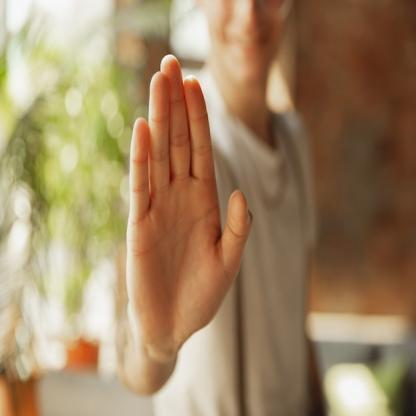stop: (124, 51, 256, 371)
